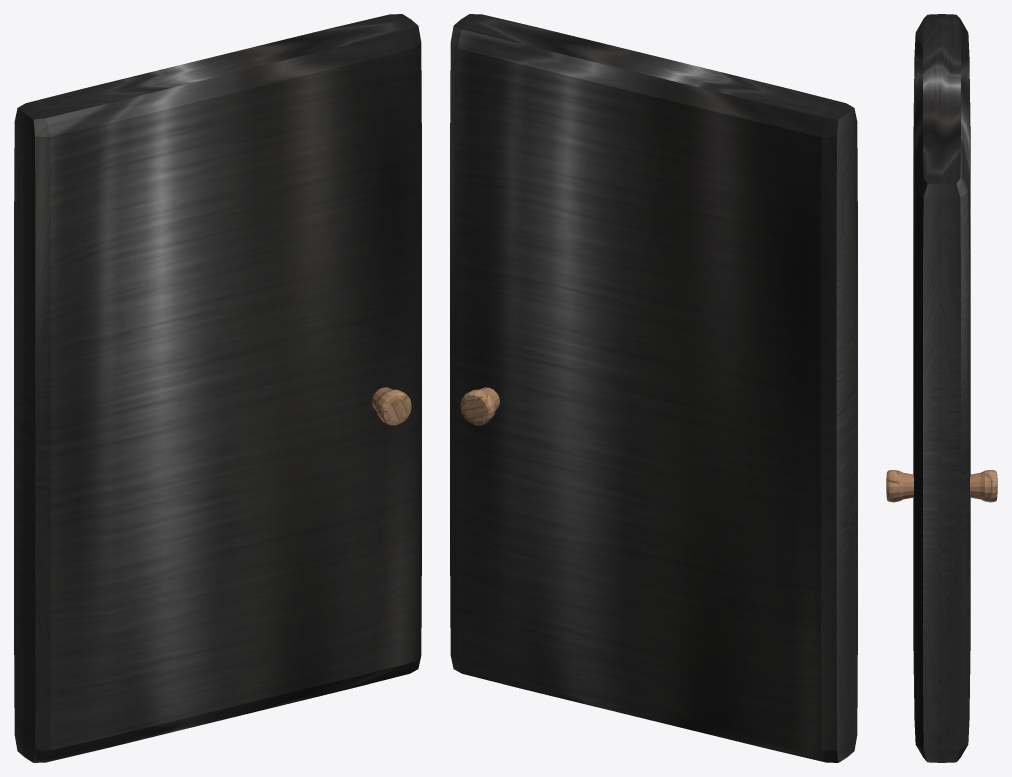
File: Labolatory_Revenge_fbx4.fbx
3 views of the same model, side by side, from view 1: azimuth 30°, elevation 25°; view 2: azimuth 150°, elevation 25°; view 3: azimuth 270°, elevation 25° (orthographic). The views are drawn at different scales.
Parts seen in each view (by area): view 1: Drzwi; view 2: Drzwi; view 3: Drzwi.
Boxes of the visible parts, <box> form: Drzwi: <box>14,14,421,762</box>; Drzwi: <box>450,14,857,762</box>; Drzwi: <box>886,14,997,762</box>.
Bounding box in the file's own units: 1.98 × 3.14 × 0.5449.
